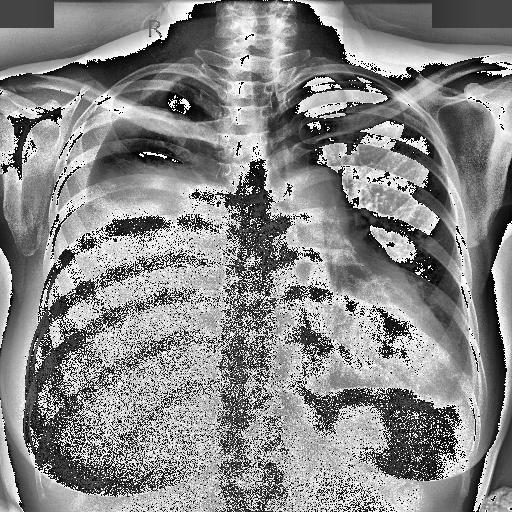0- Aortic enlargement: (272, 168, 358, 254)
10- Pleural effusion: (41, 76, 227, 389), (56, 63, 237, 377), (56, 69, 224, 403)
7- Lung Opacity: (87, 156, 210, 206), (91, 148, 207, 200)
